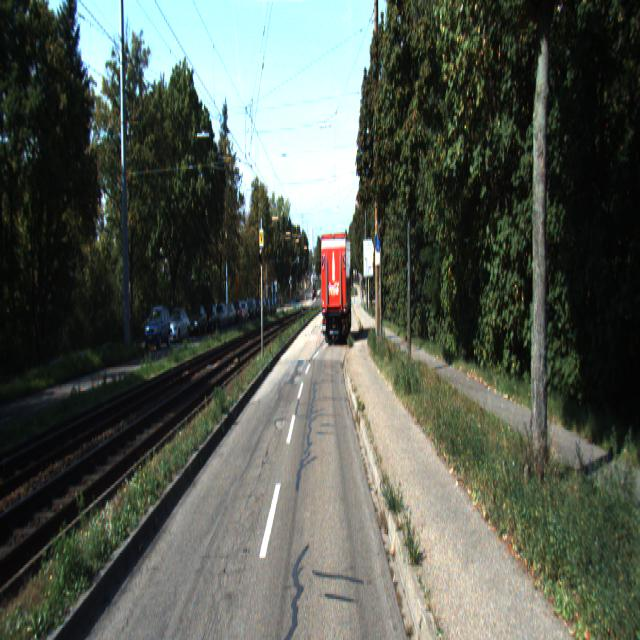Car: (319, 232, 353, 348), (143, 306, 172, 352), (162, 307, 189, 345), (186, 303, 207, 335)
